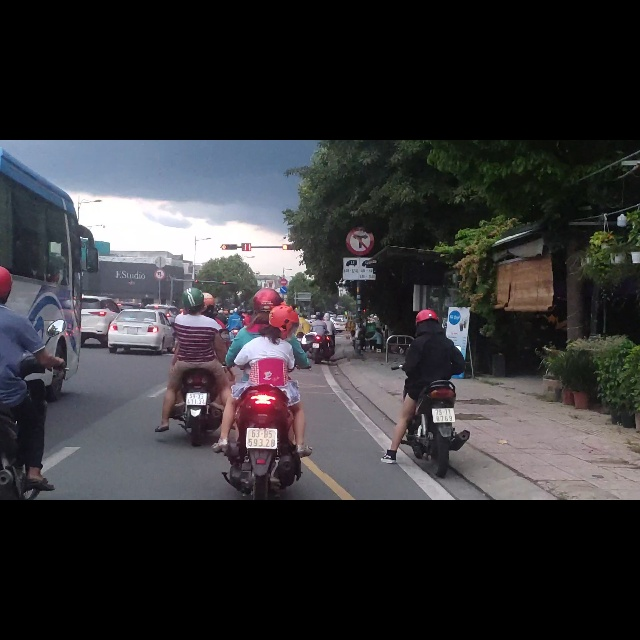bien_hieu_lenh: (346, 152, 374, 207), (154, 228, 166, 249), (280, 245, 287, 259), (280, 260, 287, 274)
